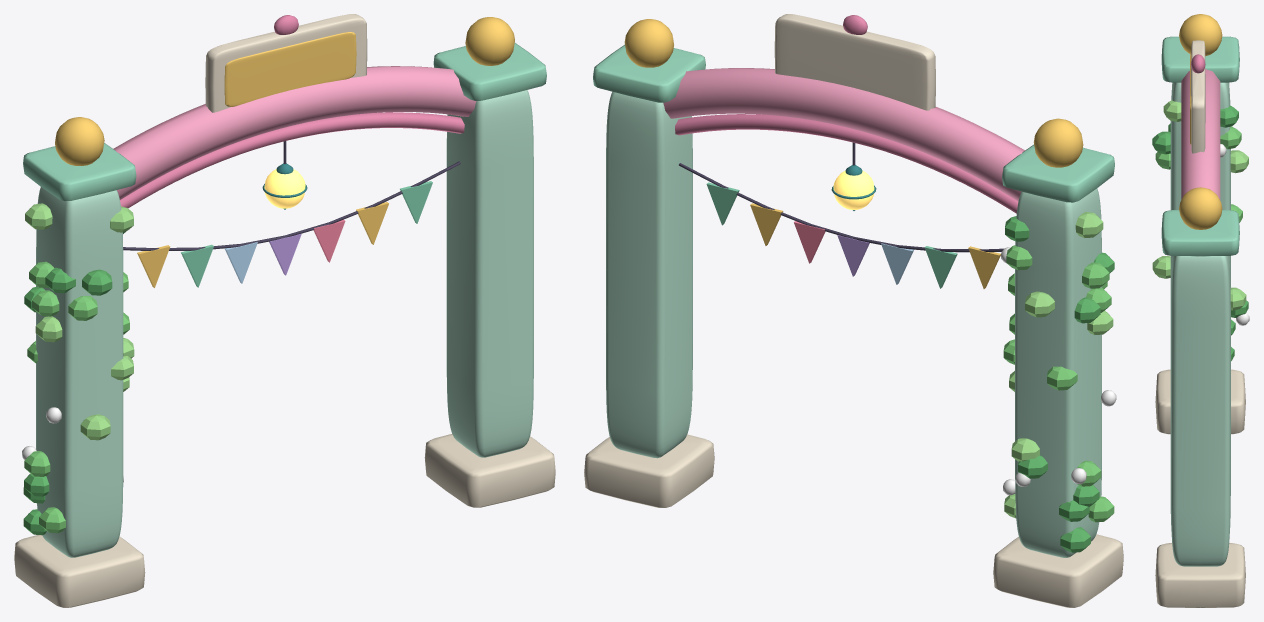
File: arch.glb
3 renders of one model, left to right at view 1: azimuth 30°, elevation 25°; view 2: azimuth 150°, elevation 25°; view 3: azimuth 270°, elevation 25°, orthographic. The views are drawn at different scales.
Parts seen in each view (by area): view 1: arch; view 2: arch; view 3: arch.
Boxes of the visible parts, left/top/right/bottom form: arch: left=14, top=14, right=555, bottom=607; arch: left=584, top=14, right=1123, bottom=607; arch: left=1152, top=14, right=1249, bottom=607.
Bounding box in the file's own units: 4.17 × 4.11 × 0.8055.
Materials: 1 (1 with a texture image).
